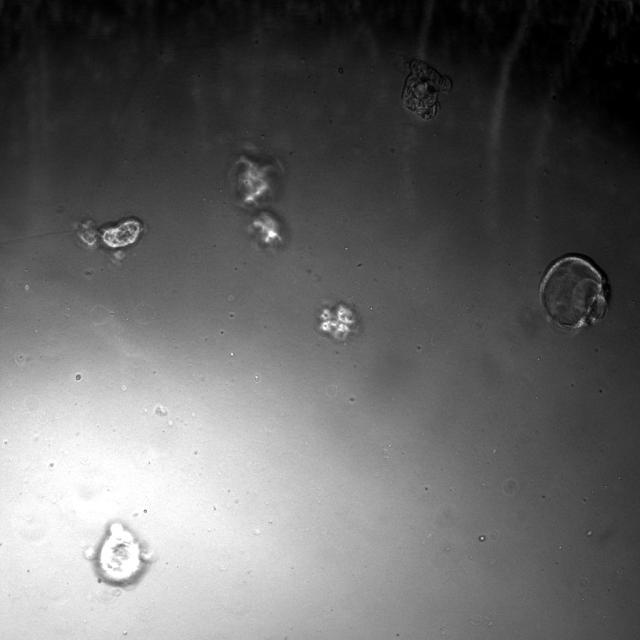organoid: (229, 145, 289, 250), (541, 255, 608, 329), (85, 520, 152, 587), (74, 215, 146, 262), (316, 302, 359, 342)
